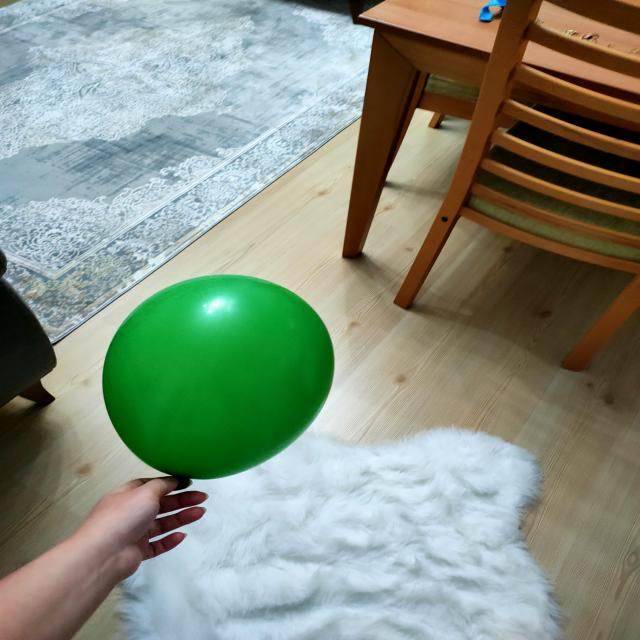green: (105, 276, 335, 480)
